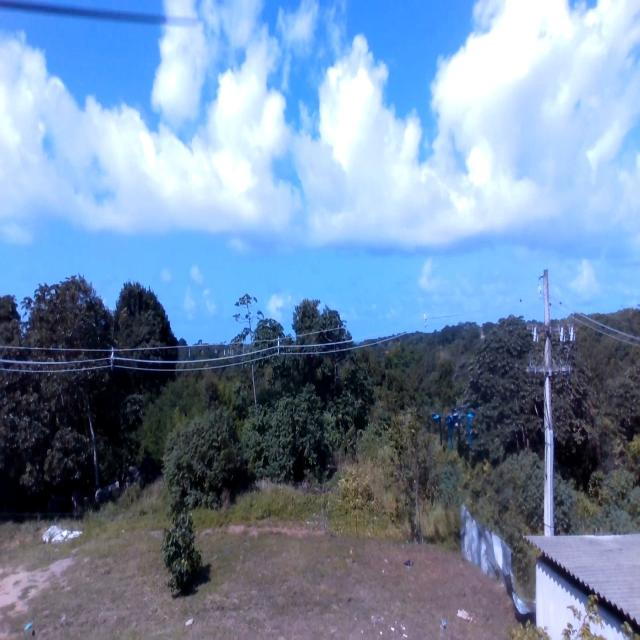-uav-: (429, 406, 475, 447)
